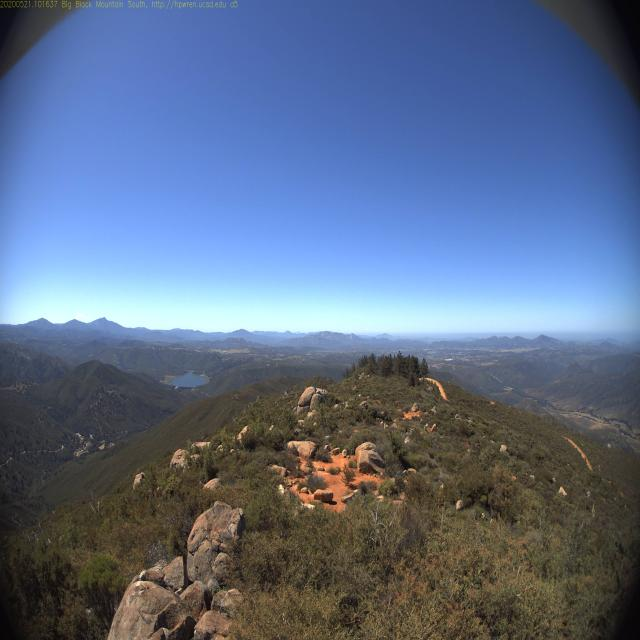smoke: (74, 310, 106, 331)
